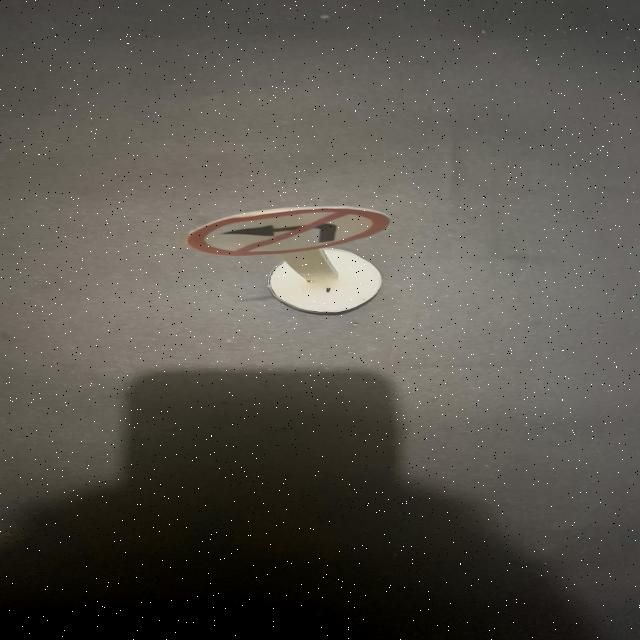Dilarang Belok Kiri: (187, 209, 386, 255)
